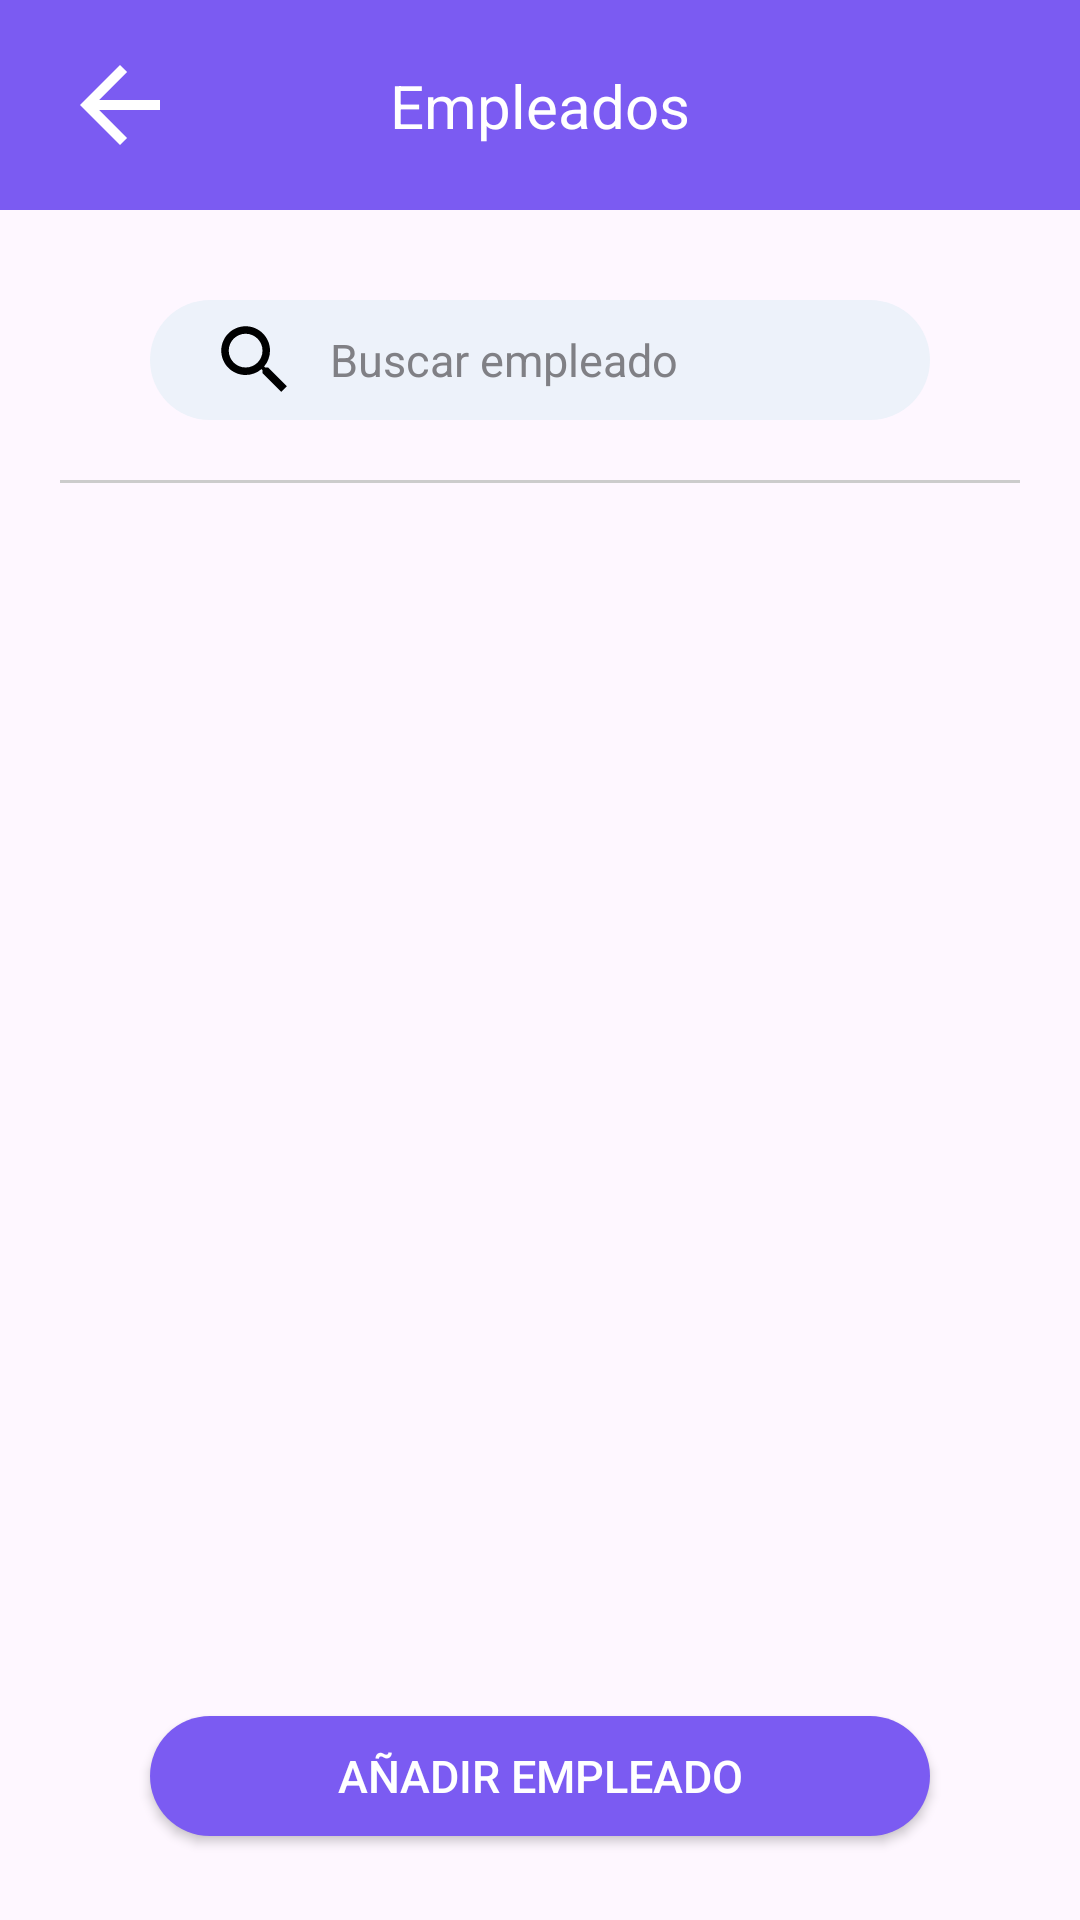

Point at icon controls on the screen. Image size 1080w x 1920h, points as (x=x, y=y).
back arrow: (x=120, y=105)
